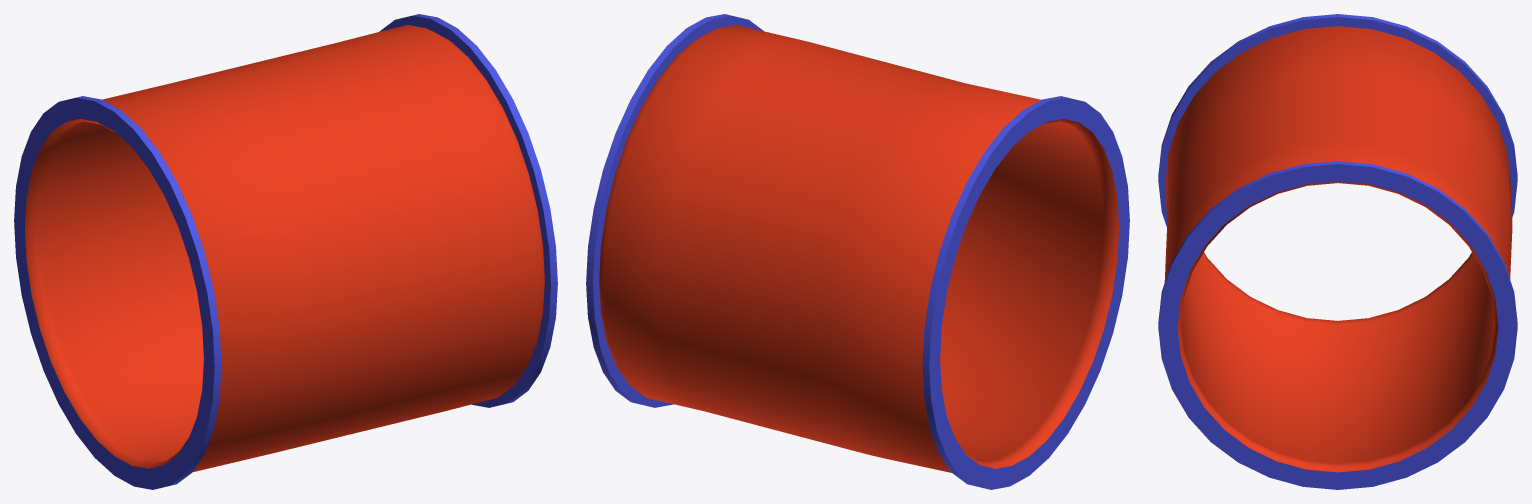
File: tubo_rotating.fbx
3 views of the same model, side by side, from view 1: azimuth 30°, elevation 25°; view 2: azimuth 150°, elevation 25°; view 3: azimuth 270°, elevation 25° (orthographic). The views are drawn at different scales.
Visible parts, largest first — view 1: tubo1; view 2: tubo1; view 3: tubo1.
Part boxes in pixels (<box>): tubo1: <box>14,14,557,489</box>; tubo1: <box>586,14,1129,489</box>; tubo1: <box>1158,14,1517,489</box>.
Bounding box in the file's own units: 391 × 395 × 395.
